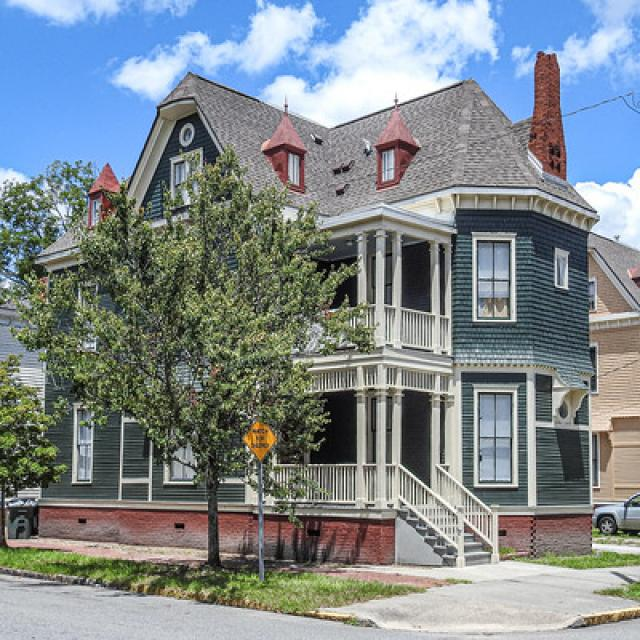Normal_building: (26, 66, 598, 571)
